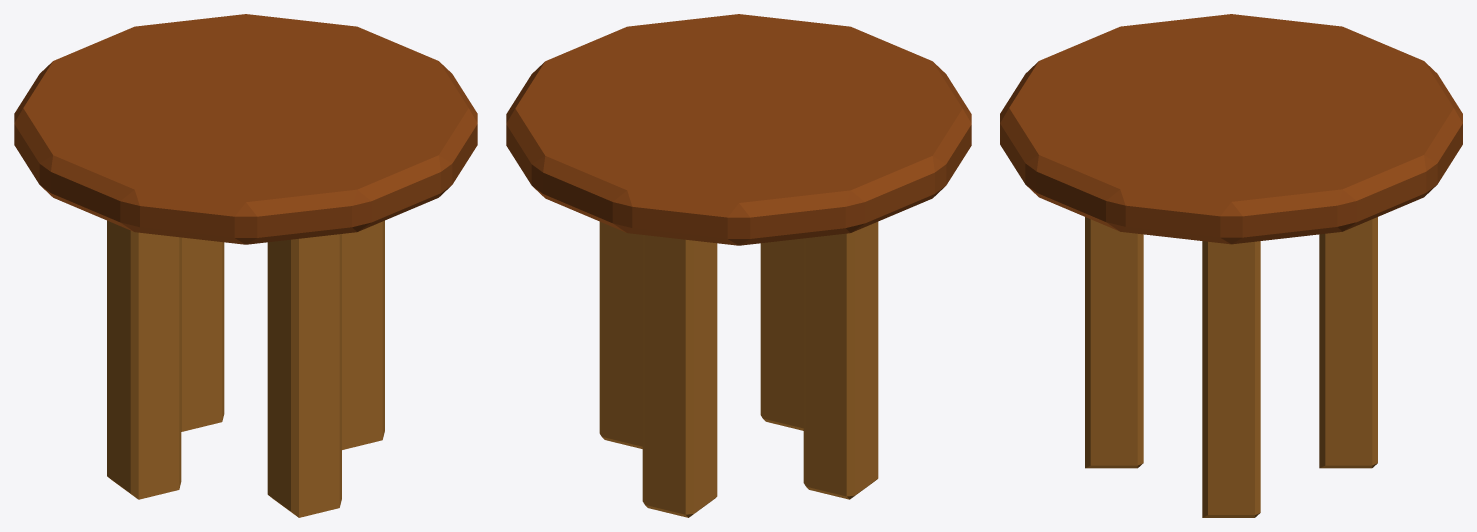
File: TABLE-4LEGS.fbx
3 views of the same model, side by side, from view 1: azimuth 30°, elevation 25°; view 2: azimuth 150°, elevation 25°; view 3: azimuth 270°, elevation 25° (orthographic).
Visible parts, largest first — view 1: Circle, Cube.003, Cube.002, Cube, Cube.001; view 2: Circle, Cube.001, Cube.002, Cube, Cube.003; view 3: Circle, Cube, Cube.001, Cube.003.
Boxes of the visible parts, x1=… form: Circle: x1=14, y1=14, x2=477, y2=244; Cube.003: x1=267, y1=234, x2=341, y2=517; Cube.002: x1=107, y1=220, x2=181, y2=499; Cube: x1=342, y1=220, x2=384, y2=449; Cube.001: x1=181, y1=237, x2=224, y2=431; Circle: x1=506, y1=14, x2=971, y2=245; Cube.001: x1=642, y1=235, x2=717, y2=517; Cube.002: x1=803, y1=222, x2=878, y2=499; Cube: x1=599, y1=222, x2=642, y2=448; Cube.003: x1=760, y1=238, x2=803, y2=430; Circle: x1=1000, y1=14, x2=1462, y2=244; Cube: x1=1202, y1=241, x2=1260, y2=517; Cube.001: x1=1319, y1=217, x2=1377, y2=468; Cube.003: x1=1085, y1=217, x2=1143, y2=468.
Bounding box in the file's own units: 39.48 × 33 × 39.48.
